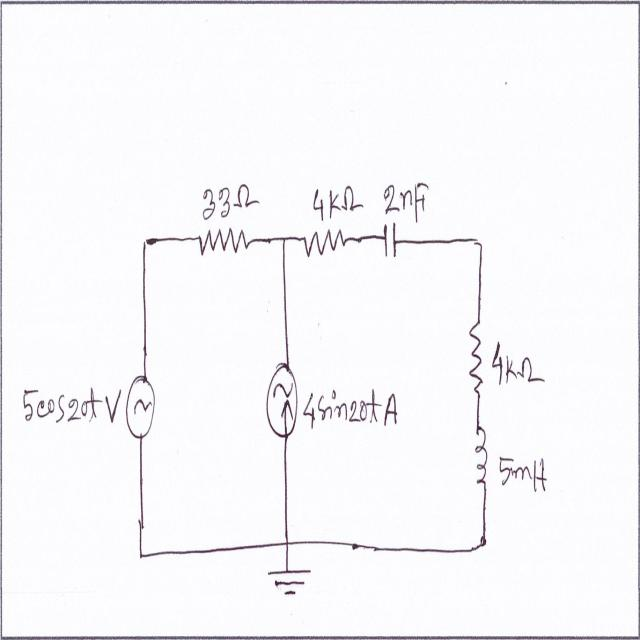ac_current: (125, 364, 158, 453)
current_source: (262, 344, 301, 448)
inductor: (472, 419, 493, 504)
resistor: (195, 222, 254, 265), (299, 227, 352, 262), (467, 316, 485, 401)
